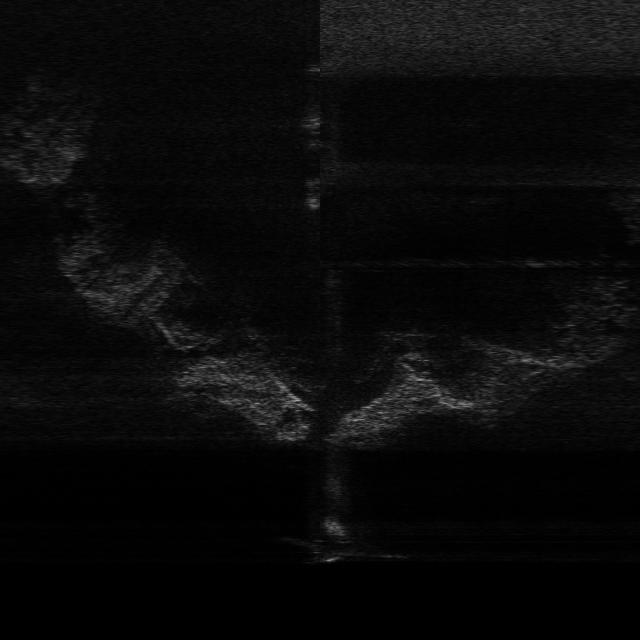plane: (280, 528, 416, 565)
